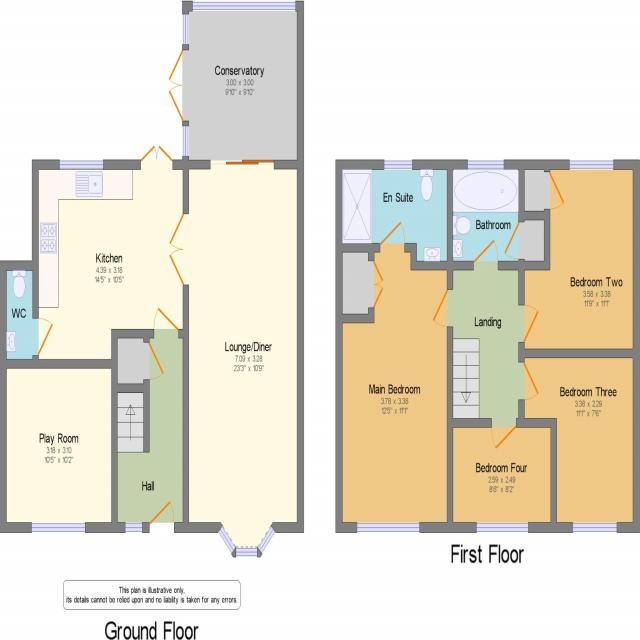DOOR: (429, 282, 455, 333), (147, 498, 178, 533), (32, 315, 56, 360), (518, 302, 541, 348), (518, 359, 541, 402), (490, 418, 519, 451), (471, 237, 499, 270), (153, 304, 179, 338), (147, 340, 166, 382), (379, 220, 406, 247), (474, 174, 501, 199)
DOUBLE DOOR: (167, 211, 189, 288), (140, 143, 174, 171)
ROOM: (168, 159, 305, 557), (336, 212, 454, 534), (31, 144, 190, 370), (517, 158, 640, 361), (518, 348, 640, 533), (0, 358, 118, 534), (447, 417, 557, 533)
SLIDING DOOR: (209, 159, 276, 170)
WINDOW: (216, 523, 277, 560), (355, 521, 421, 535), (30, 520, 86, 535), (58, 158, 105, 173), (568, 158, 614, 171), (476, 522, 529, 533), (465, 158, 505, 172), (572, 522, 618, 534), (383, 159, 413, 170), (123, 520, 144, 535)
